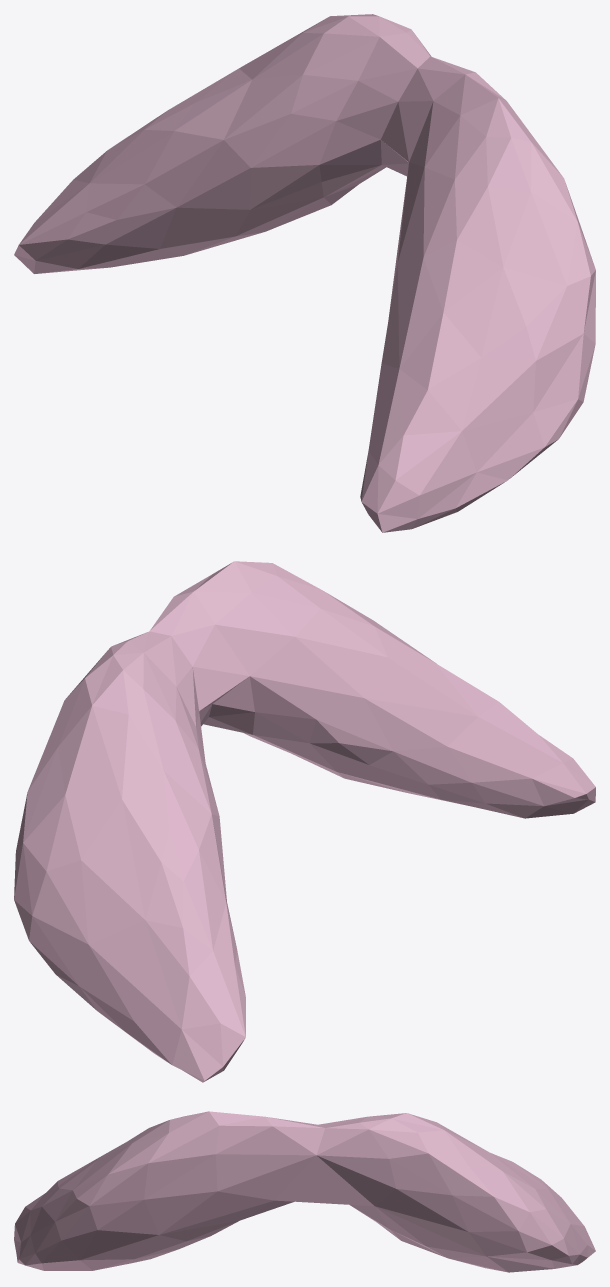
The picture shows the model from 3 angles, top to bottom: view 1: azimuth 30°, elevation 25°; view 2: azimuth 150°, elevation 25°; view 3: azimuth 270°, elevation 25°; orthographic projection. The views are drawn at different scales.
Visible parts, largest first — view 1: 1039.obj; view 2: 1039.obj; view 3: 1039.obj.
Part boxes in pixels (<box>): 1039.obj: <box>14,14,595,532</box>; 1039.obj: <box>14,561,595,1082</box>; 1039.obj: <box>14,1111,595,1272</box>.
Bounding box in the file's own units: 451 × 456 × 1079.
